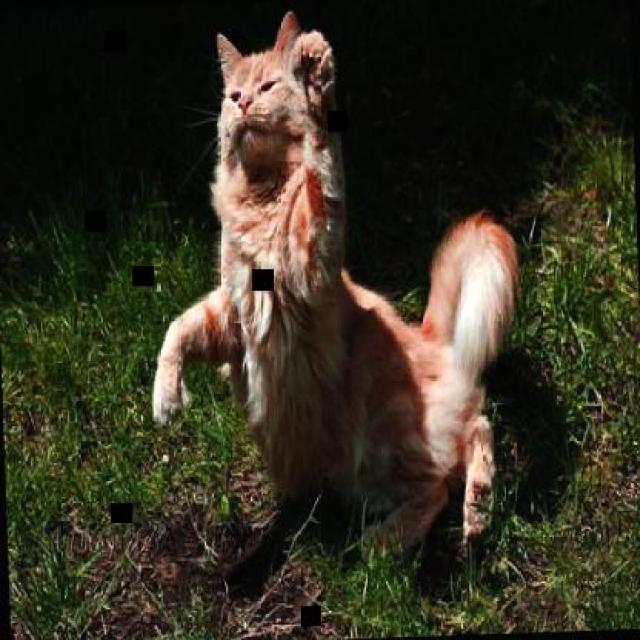cat: (139, 3, 530, 575)
